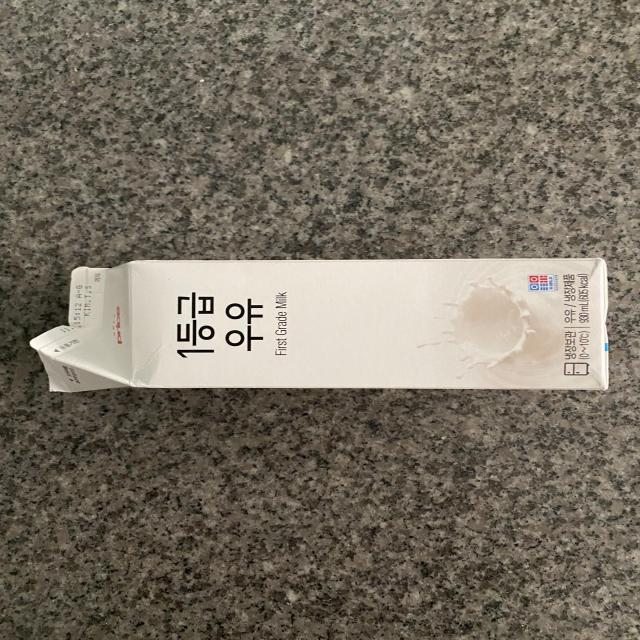paperpack: (29, 258, 609, 392)
